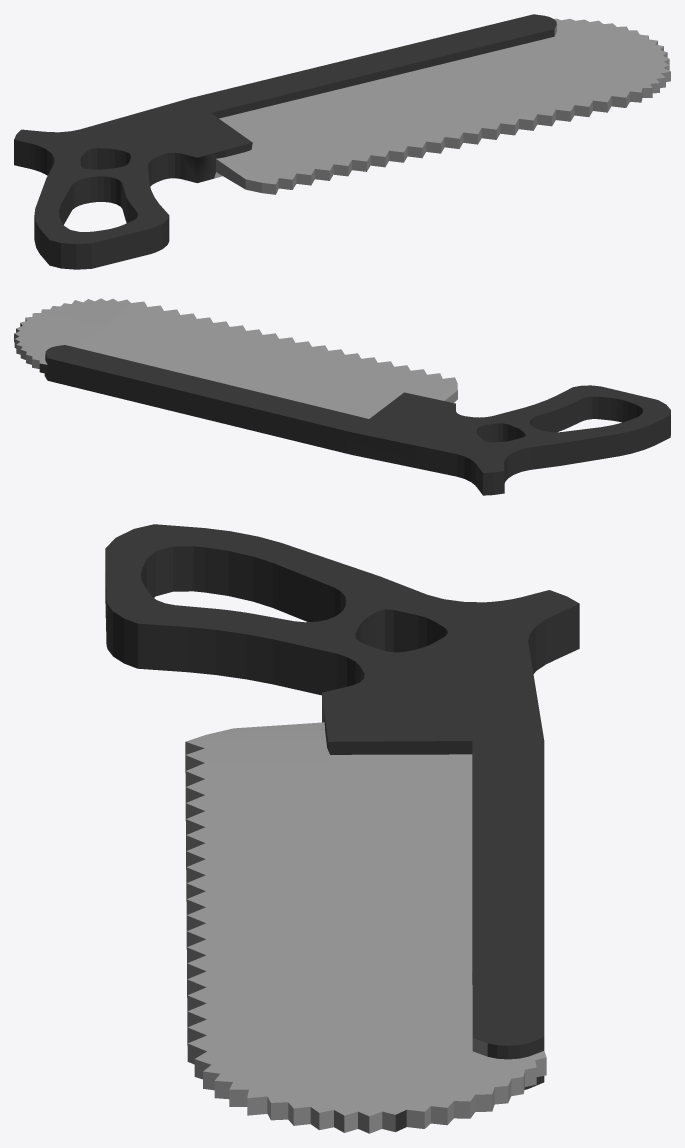
Rendered from TCA_SawBone.fbx.
3 views of the same model, one above another, from view 1: azimuth 30°, elevation 25°; view 2: azimuth 150°, elevation 25°; view 3: azimuth 270°, elevation 25° (orthographic). The views are drawn at different scales.
Parts seen in each view (by area): view 1: SawBone; view 2: SawBone; view 3: SawBone.
Boxes of the visible parts, x1,y1,x2,y2 form: SawBone: [14, 14, 670, 269]; SawBone: [14, 298, 670, 495]; SawBone: [105, 524, 579, 1133].
Size of the model in its own units: 0.5368 by 0.0198 by 0.1864.
